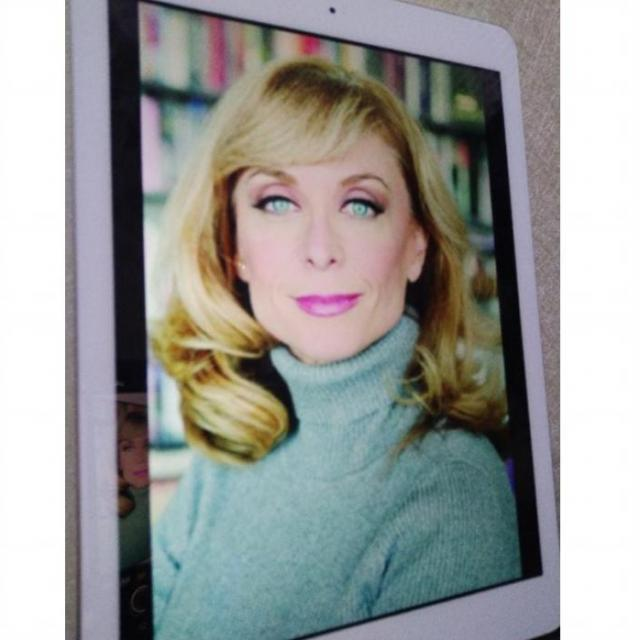device: (69, 0, 551, 640)
